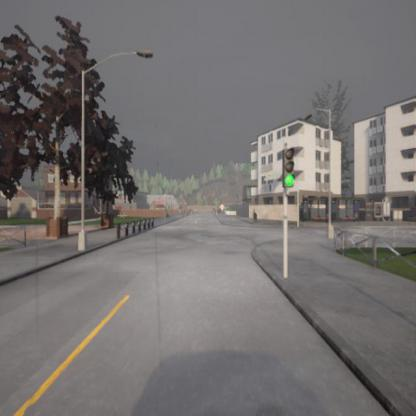traffic_light_green: (283, 148, 294, 187)
